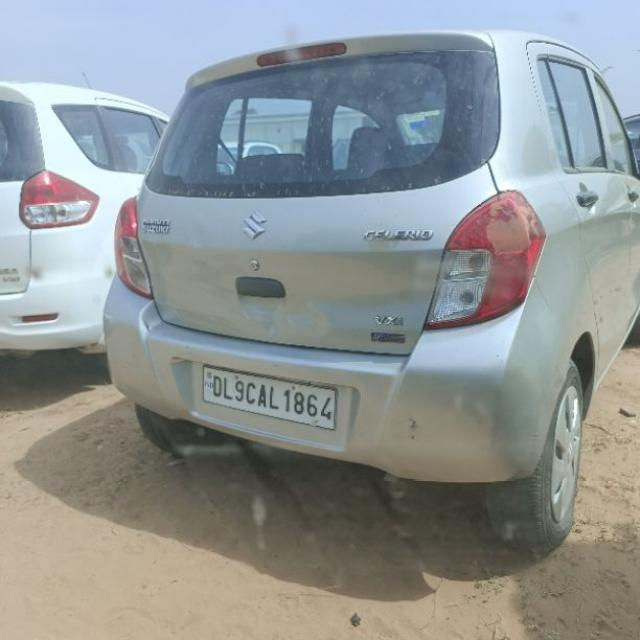license_plate: (200, 363, 339, 431)
